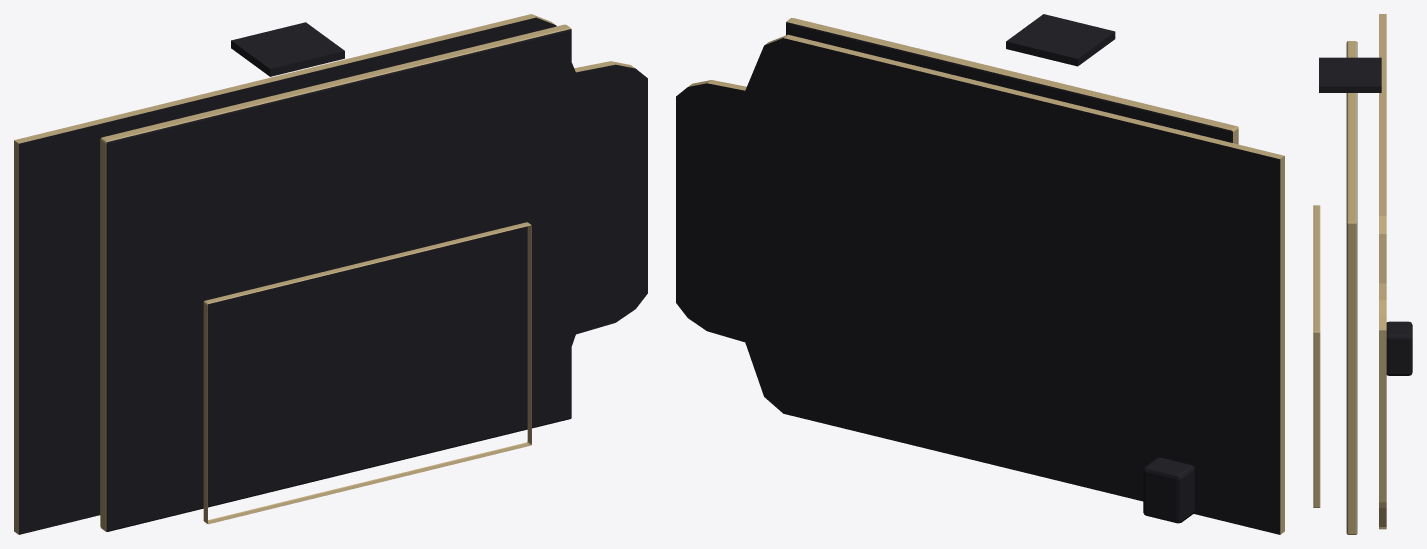
Rendered from chassis_pcb_vis.obj.
3 views of the same model, side by side, from view 1: azimuth 30°, elevation 25°; view 2: azimuth 150°, elevation 25°; view 3: azimuth 270°, elevation 25° (orthographic). The views are drawn at different scales.
Bounding box in the file's own units: 0.1346 × 0.0902 × 0.023.
Materials: 1 (1 with a texture image).
